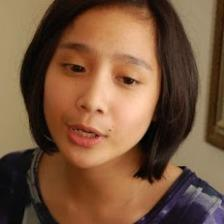Non hijab: (19, 0, 199, 181)
